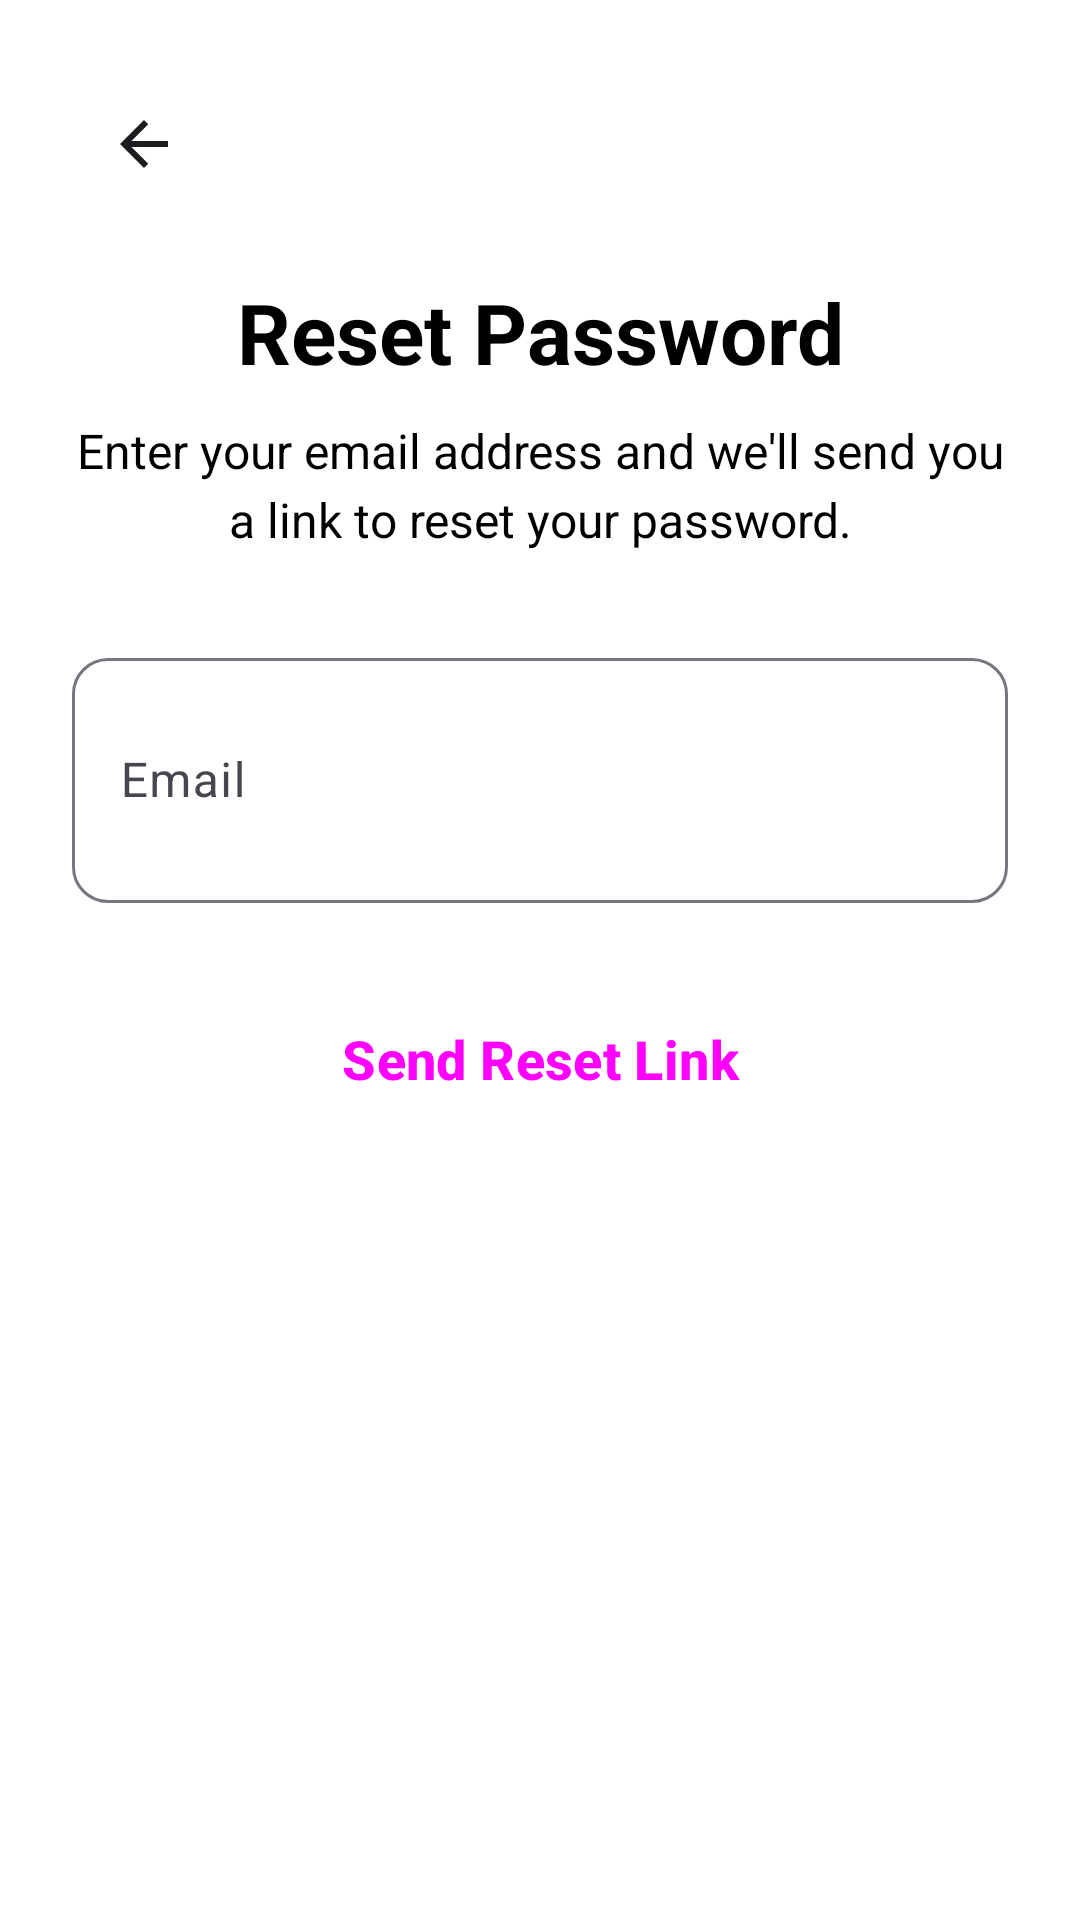

Icons on this 1080w x 1920h Android screen, each with its box as bbox(x1, y1, x2, y2):
arrow back: bbox(120, 120, 168, 168)
